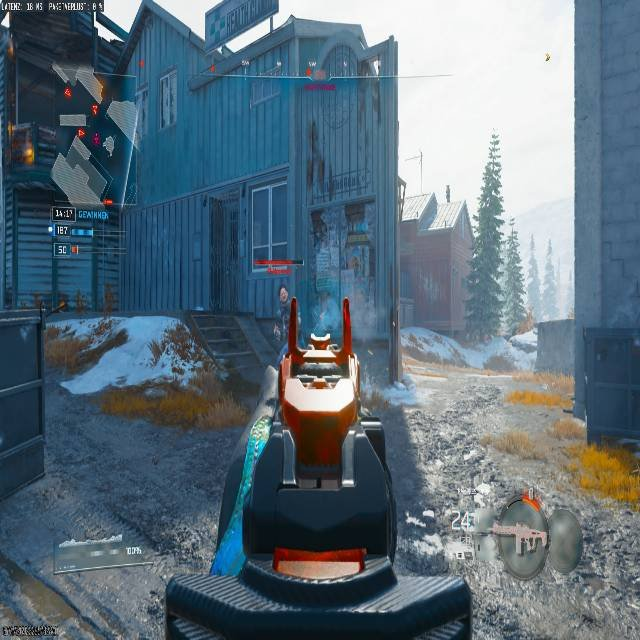player: (280, 286, 288, 302)
